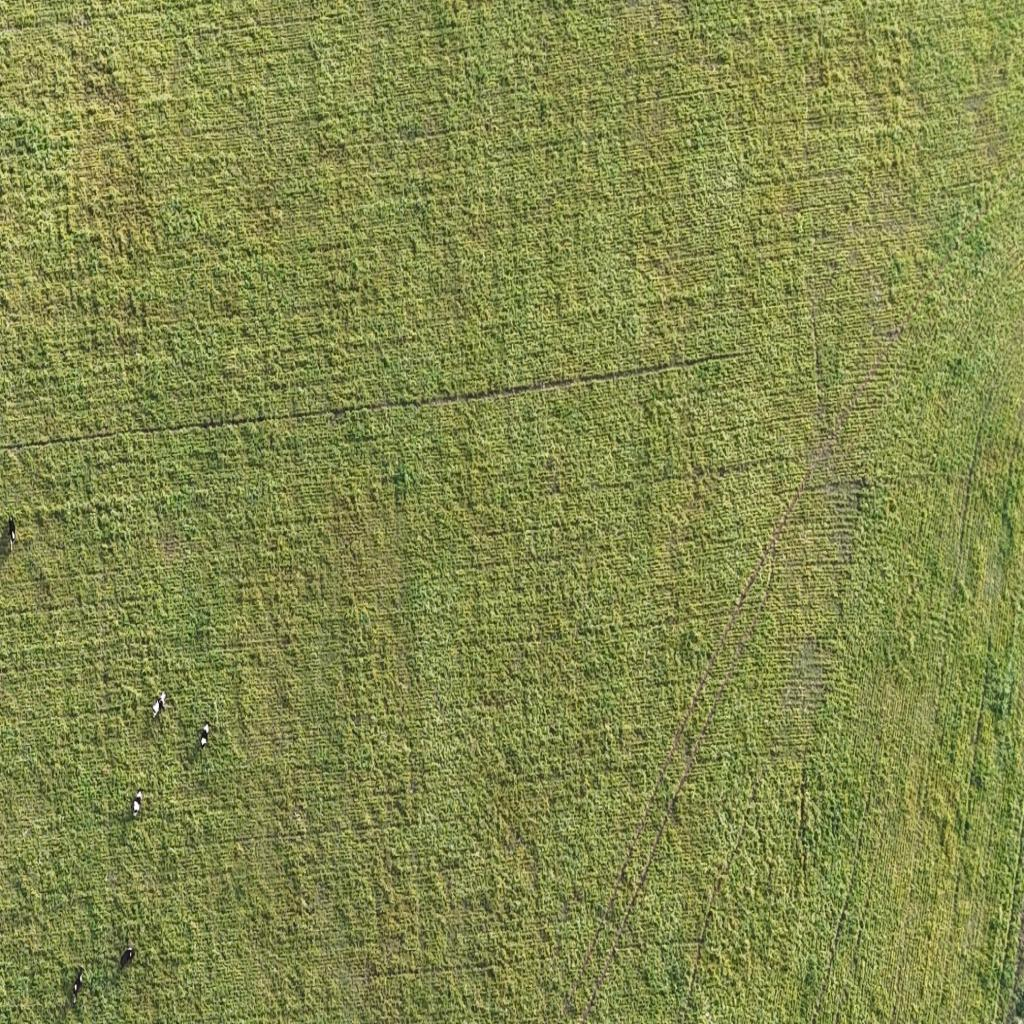cow: (118, 942, 138, 974), (130, 788, 146, 822), (73, 970, 88, 1003), (6, 516, 18, 553), (152, 691, 166, 719), (200, 721, 210, 749)
